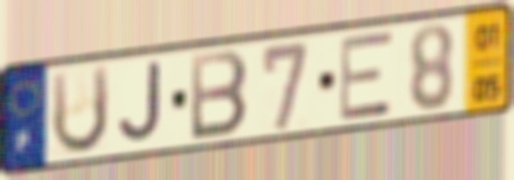7: (259, 38, 313, 133)
8: (407, 20, 456, 114)
B: (188, 47, 251, 144)
E: (337, 28, 395, 125)
J: (115, 58, 165, 147)
U: (48, 61, 112, 159)
